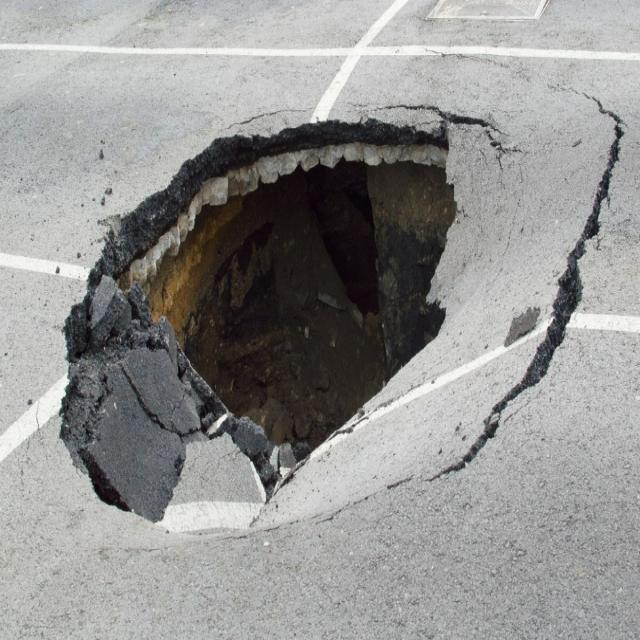Pothole: (56, 77, 578, 540)
